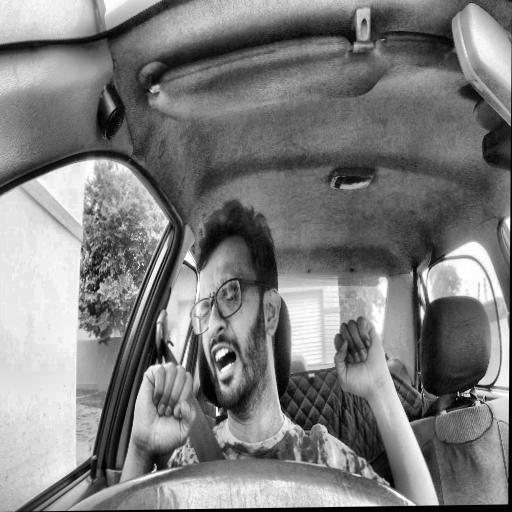drowsy: (189, 197, 283, 412)
